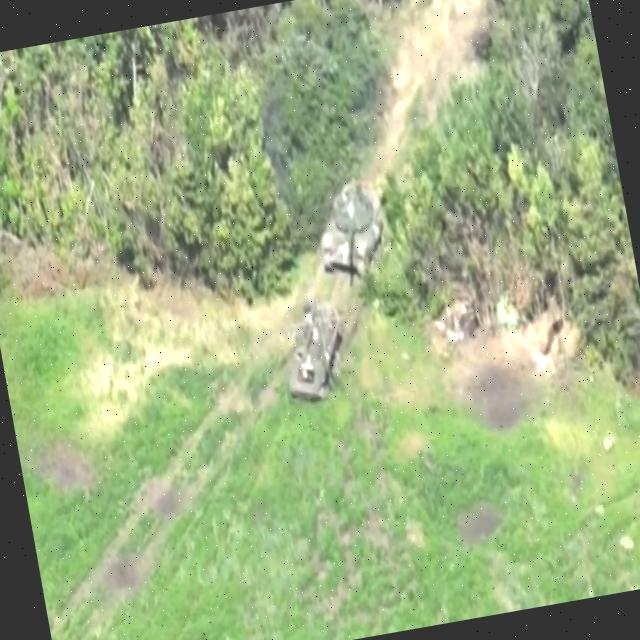AIFV: (275, 296, 357, 410)
MBT: (308, 173, 398, 296)
